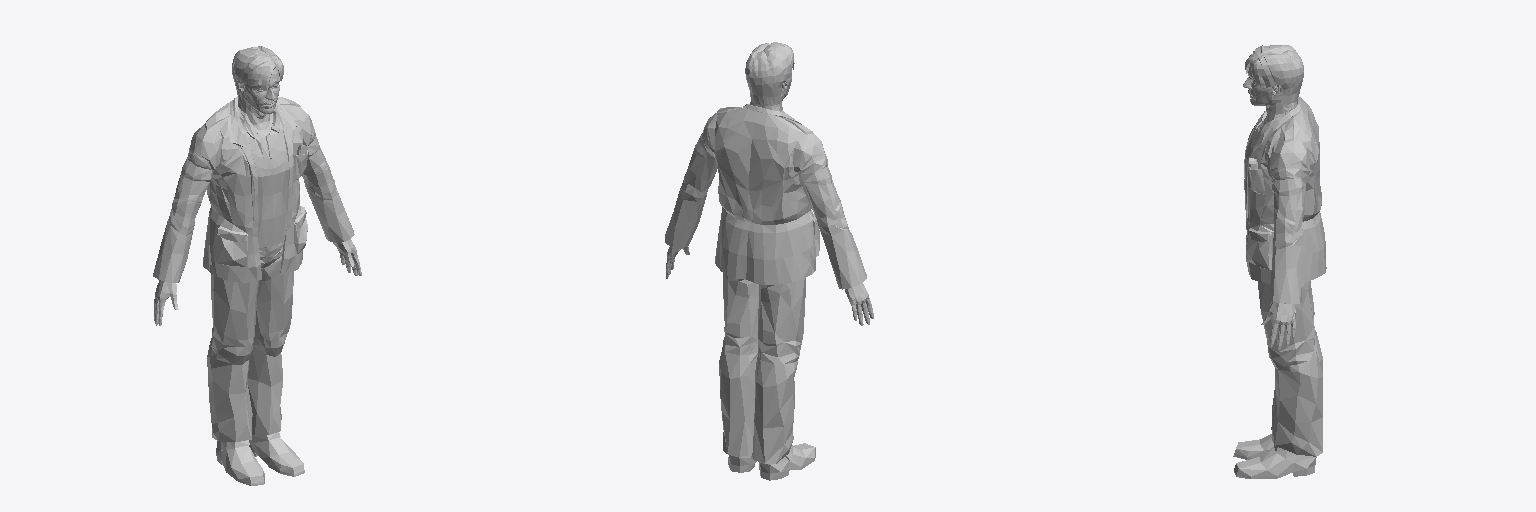
The model's file is SH2 James.obj.
3 renders of one model, left to right at view 1: azimuth 30°, elevation 25°; view 2: azimuth 150°, elevation 25°; view 3: azimuth 270°, elevation 25°, orthographic.
Visible parts, largest first — view 1: 8_Material__34_8_, 12_Material__31_1.001, 12_Material__31_1, 12_Material__31_12_Ma, rdmobj00_Material, 8_Material__34_8_Mate, 10_Material__52_10_Ma, 0010_Material__60_001; view 2: 8_Material__34_8_, 12_Material__31_1.001, 10_Material__52_10_Ma, 12_Material__31_12_Ma, 8_Material__34_8_Mate; view 3: 8_Material__34_8_, 12_Material__31_1.001, 12_Material__31_12_Ma, 10_Material__52_10_Ma, rdmobj00_Material, 8_Material__34_8_Mate, 0010_Material__60_001.
Part boxes in pixels (x1,y1,x2,y2): 8_Material__34_8_: (153,96,354,282); 12_Material__31_1.001: (207,242,293,464); 12_Material__31_1: (236,100,306,247); 12_Material__31_12_Ma: (216,432,304,485); rdmobj00_Material: (237,60,279,129); 8_Material__34_8_Mate: (154,239,361,325); 10_Material__52_10_Ma: (232,46,307,153); 0010_Material__60_001: (233,55,283,100); 8_Material__34_8_: (665,104,866,289); 12_Material__31_1.001: (719,273,805,463); 10_Material__52_10_Ma: (745,42,793,96); 12_Material__31_12_Ma: (728,443,815,480); 8_Material__34_8_Mate: (666,246,873,325); 8_Material__34_8_: (1244,97,1326,303); 12_Material__31_1.001: (1258,281,1322,456); 12_Material__31_12_Ma: (1233,434,1316,478); 10_Material__52_10_Ma: (1255,45,1303,95); rdmobj00_Material: (1243,62,1296,124); 8_Material__34_8_Mate: (1261,302,1295,349); 0010_Material__60_001: (1245,51,1300,104).
Size of the model in its own units: 4.64 by 9.11 by 1.85.